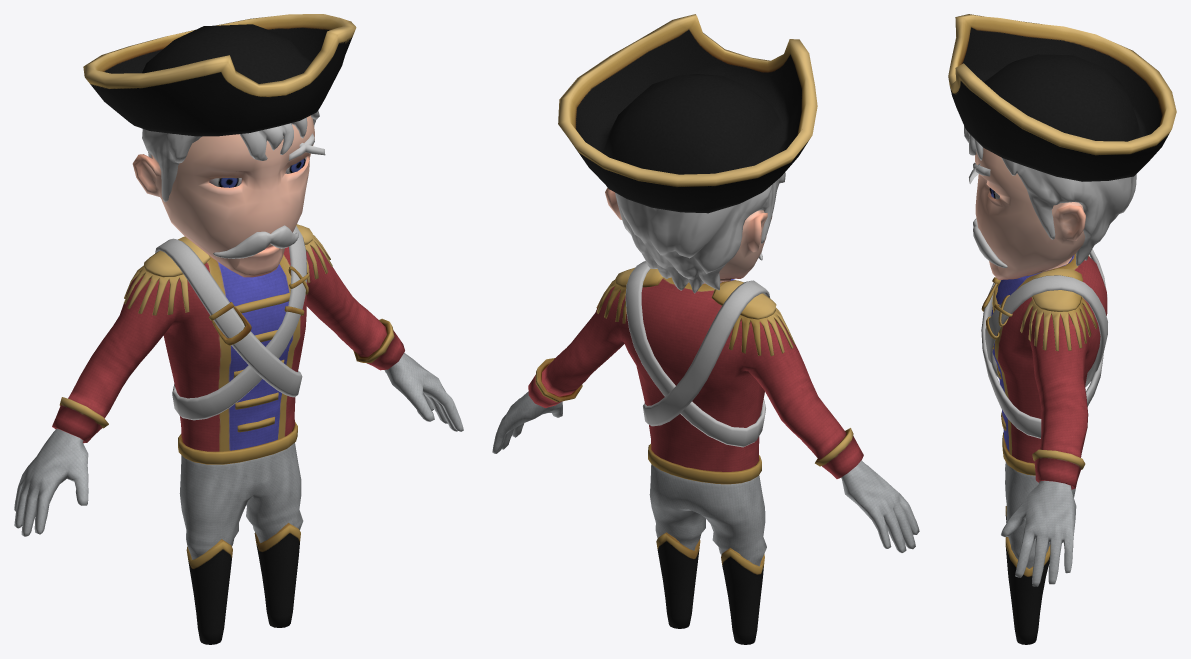
File: Lieutenant C.fbx
3 renders of one model, left to right at view 1: azimuth 30°, elevation 25°; view 2: azimuth 150°, elevation 25°; view 3: azimuth 270°, elevation 25°, orthographic. The views are drawn at different scales.
Visible parts, largest first — view 1: TwinGirl_2.034; view 2: TwinGirl_2.034; view 3: TwinGirl_2.034.
Boxes of the visible parts, x1,y1,x2,y2 form: TwinGirl_2.034: [14, 14, 463, 644]; TwinGirl_2.034: [492, 14, 919, 644]; TwinGirl_2.034: [948, 14, 1176, 644].
Bounding box in the file's own units: 120 × 162 × 57.35.
